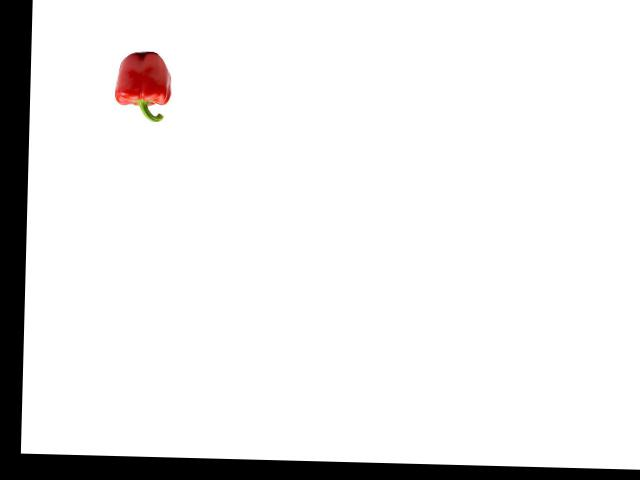bell_pepper: (110, 47, 176, 124)
